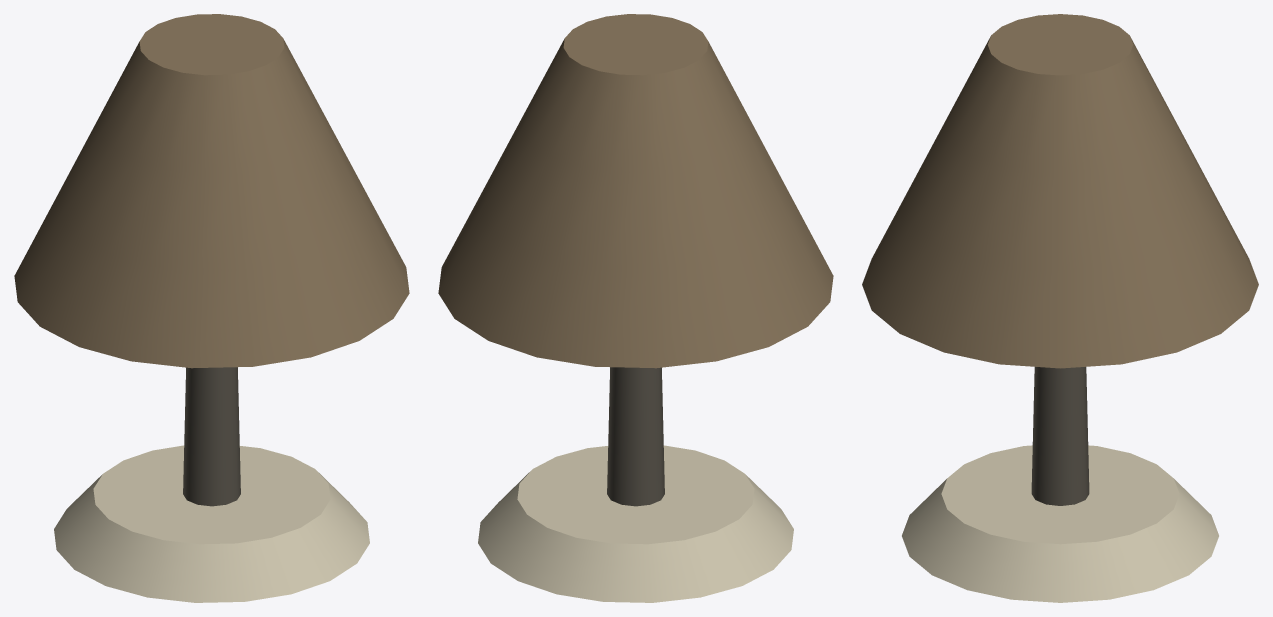
Rendered from table_lamp_80s.glb.
The picture shows the model from 3 angles, left to right: view 1: azimuth 30°, elevation 25°; view 2: azimuth 150°, elevation 25°; view 3: azimuth 270°, elevation 25°; orthographic projection.
Visible parts, largest first — view 1: fabric__shade, porcelain__base, metal__stem; view 2: fabric__shade, porcelain__base, metal__stem; view 3: fabric__shade, porcelain__base, metal__stem.
Part boxes in pixels (<box>): fabric__shade: <box>14,14,409,368</box>; porcelain__base: <box>54,445,369,602</box>; metal__stem: <box>183,367,240,506</box>; fabric__shade: <box>438,14,833,368</box>; porcelain__base: <box>478,445,793,602</box>; metal__stem: <box>607,367,664,506</box>; fabric__shade: <box>862,14,1258,368</box>; porcelain__base: <box>902,445,1218,602</box>; metal__stem: <box>1031,367,1089,505</box>.
Bounding box in the file's own units: 0.3 × 0.4095 × 0.3.
